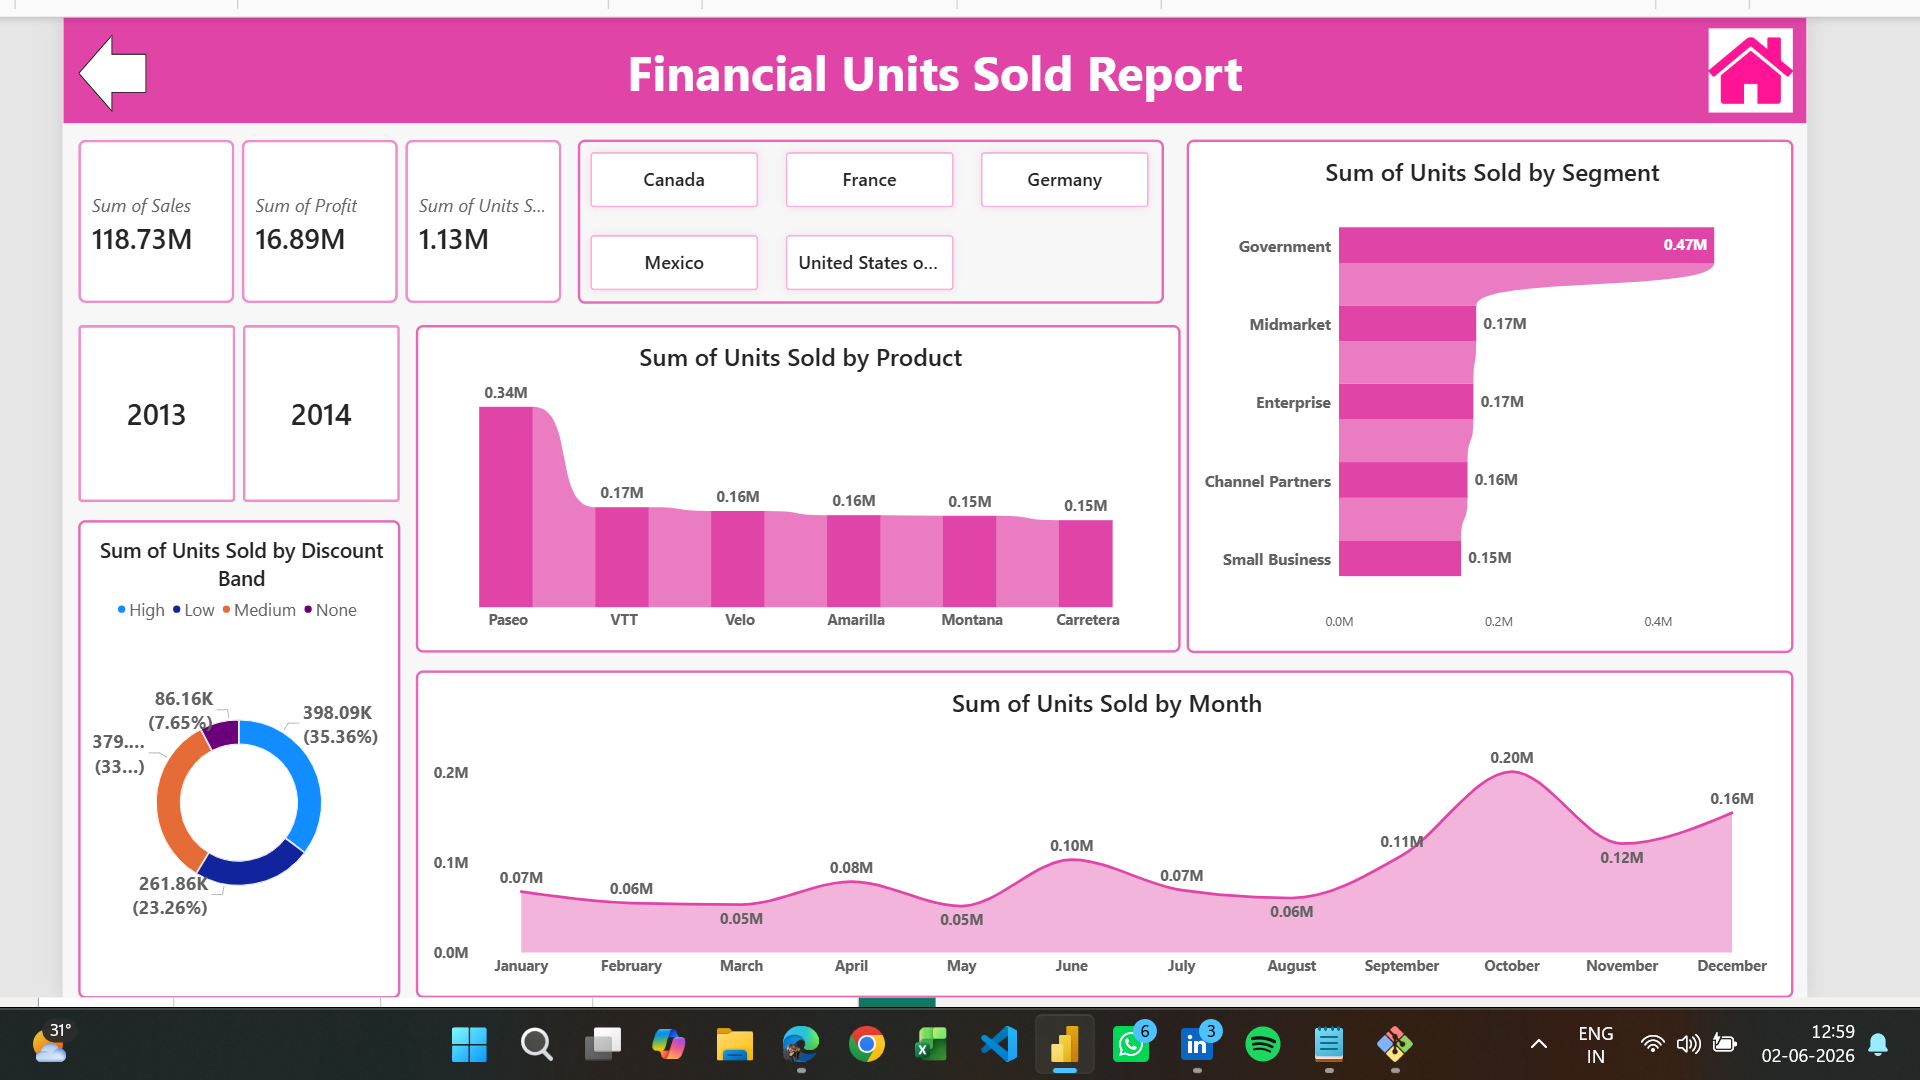

What the dashboard file says about the page in this screenshot:
{"tool":"powerbi","page":{"name":"Units Sold Report","canvas":[1920,1080],"ordinal":3},"visuals":[{"type":"shape","box":[0,0,1920.8,118.2],"z":0},{"type":"cardVisual","fields":{"Data":["Sum(financials.Sales)","Sum(financials.Profit)","Sum(financials.Units Sold)"]},"box":[17.2,135.4,532.8,180.5],"z":1000},{"type":"advancedSlicerVisual","fields":{"Values":["financials.Year"]},"box":[17.2,339.5,354.5,195.5],"z":2000},{"type":"barChart","fields":{"Category":["financials.Segment"],"Y":["Sum(financials.Units Sold)"]},"box":[1237.6,135.4,668.2,565.1],"z":3000},{"type":"columnChart","fields":{"Category":["financials.Product"],"Y":["Sum(financials.Units Sold)"]},"box":[388.9,339.5,842.2,361],"z":4000},{"type":"donutChart","fields":{"Series":["financials.Discount Band"],"Y":["Sum(financials.Units Sold)"]},"box":[17.2,554.3,354.5,526.4],"z":5000},{"type":"areaChart","fields":{"Category":["financials.Date.Variation.Date Hierarchy.Month"],"Y":["Sum(financials.Units Sold)"]},"box":[388.9,719.8,1516.9,361],"z":7000},{"type":"shape","box":[17.2,19.3,75.2,85.9],"z":8000},{"type":"image","box":[1795.4,12.9,124.6,92.4],"z":9000},{"type":"advancedSlicerVisual","fields":{"Values":["financials.Country"]},"box":[566.3,135.4,645.3,180.5],"z":9001}]}

Visuals, with their boxes on the page's 1920x1080 design canvas (x1, y1, x2, y2). These are canvas units, not pixel positions in the 1920x1080 screenshot, which may show the page scaled, cropped or inside an application window:
shape: 0 0 1921 118
cardVisual - Sum(financials.Sales) x Sum(financials.Profit): 17 135 550 316
advancedSlicerVisual - financials.Year: 17 340 372 535
barChart - financials.Segment x Sum(financials.Units Sold): 1238 135 1906 700
columnChart - financials.Product x Sum(financials.Units Sold): 389 340 1231 700
donutChart - financials.Discount Band x Sum(financials.Units Sold): 17 554 372 1081
areaChart - financials.Date.Variation.Date Hierarchy.Month x Sum(financials.Units Sold): 389 720 1906 1081
shape: 17 19 92 105
image: 1795 13 1920 105
advancedSlicerVisual - financials.Country: 566 135 1212 316
